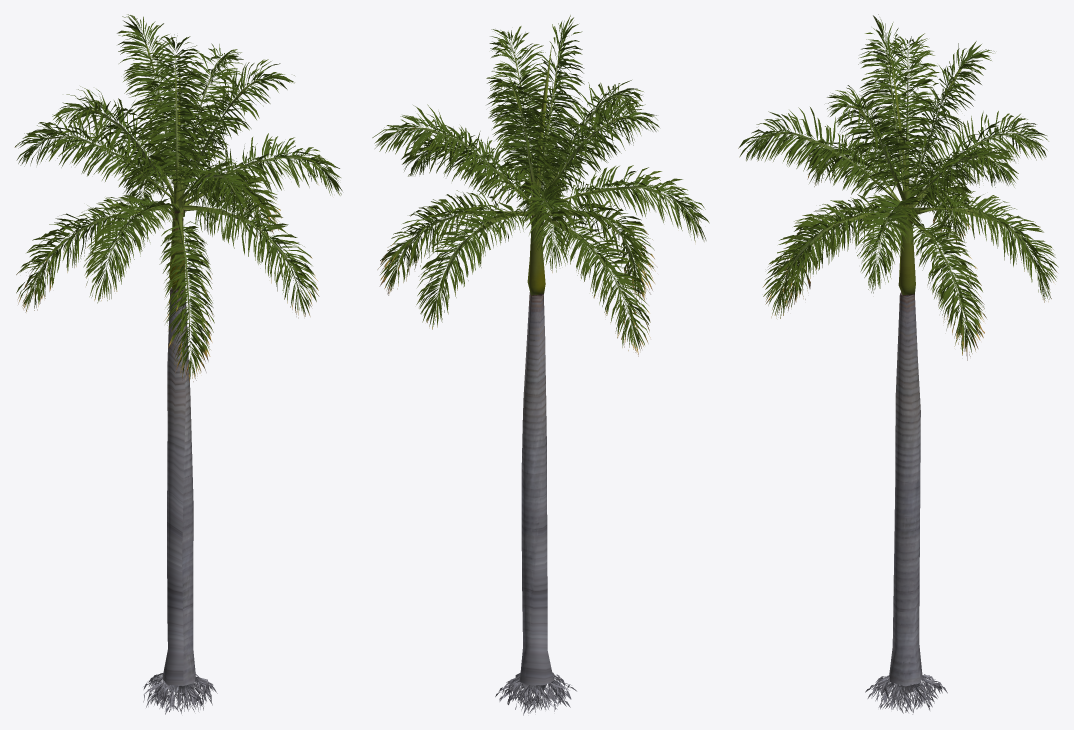
Rendered from royal_palm.glb.
3 views of the same model, side by side, from view 1: azimuth 30°, elevation 25°; view 2: azimuth 150°, elevation 25°; view 3: azimuth 270°, elevation 25° (orthographic).
Visible parts, largest first — view 1: Roystonea_regia_HD_w; view 2: Roystonea_regia_HD_w; view 3: Roystonea_regia_HD_w.
Boxes of the visible parts, x1,y1,x2,y2 form: Roystonea_regia_HD_w: [14, 14, 342, 714]; Roystonea_regia_HD_w: [372, 15, 709, 715]; Roystonea_regia_HD_w: [738, 14, 1058, 714].
Bounding box in the file's own units: 6.98 × 15.97 × 6.82.
Materials: 4 (4 with a texture image).
